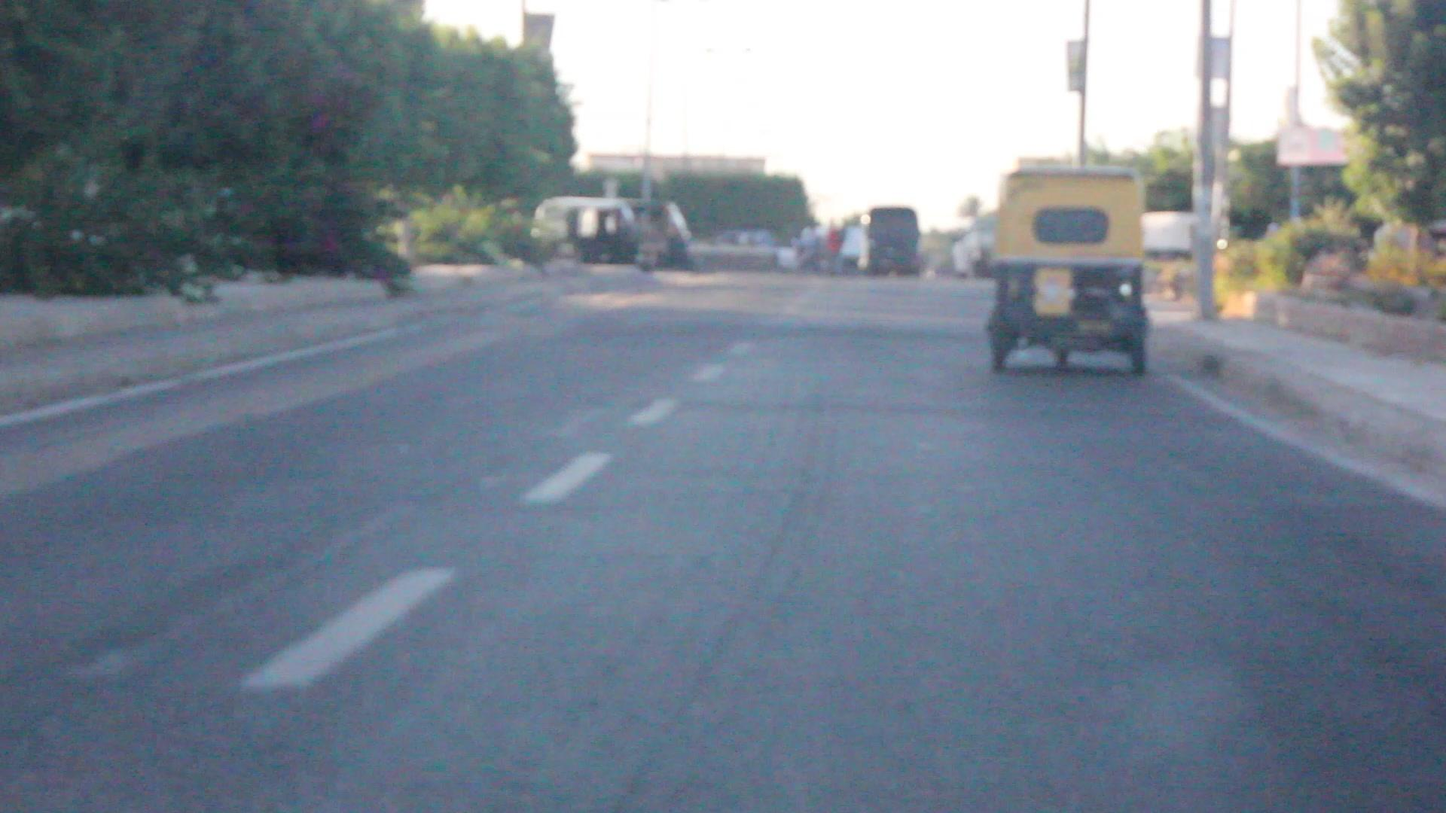Bump: (443, 298, 990, 347)
